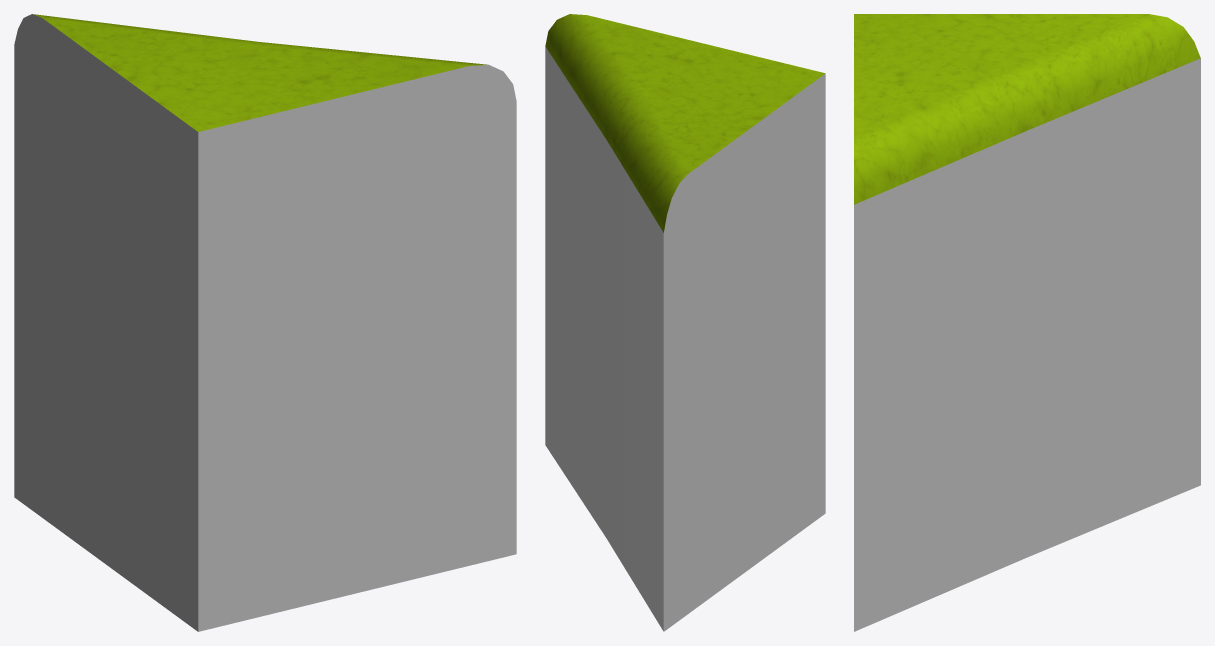
Rendered from Terrrain_Module_Corner_3M.fbx.
3 views of the same model, side by side, from view 1: azimuth 30°, elevation 25°; view 2: azimuth 150°, elevation 25°; view 3: azimuth 270°, elevation 25° (orthographic). The views are drawn at different scales.
Parts seen in each view (by area): view 1: Cube.056; view 2: Cube.056; view 3: Cube.056.
Part boxes in pixels (x1,y1,x2,y2): Cube.056: (14,14,516,631); Cube.056: (545,14,825,631); Cube.056: (854,14,1200,631).
Bounding box in the file's own units: 4 × 6 × 4.
